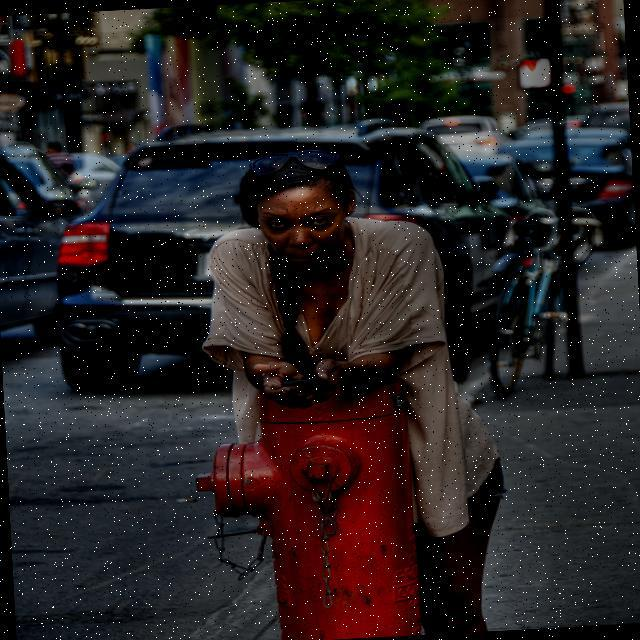fire_hydrant: (188, 374, 428, 640)
